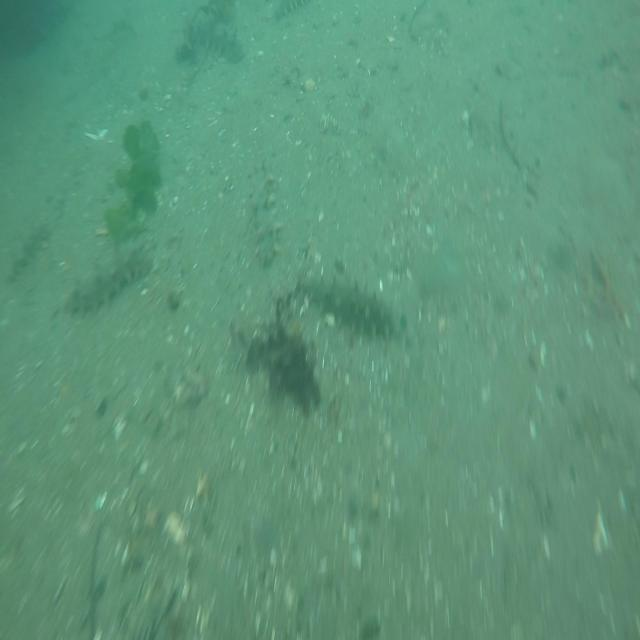holothurian: (295, 264, 398, 344), (60, 238, 151, 321), (244, 158, 286, 269), (187, 11, 246, 66), (6, 219, 50, 289), (271, 0, 311, 23)
